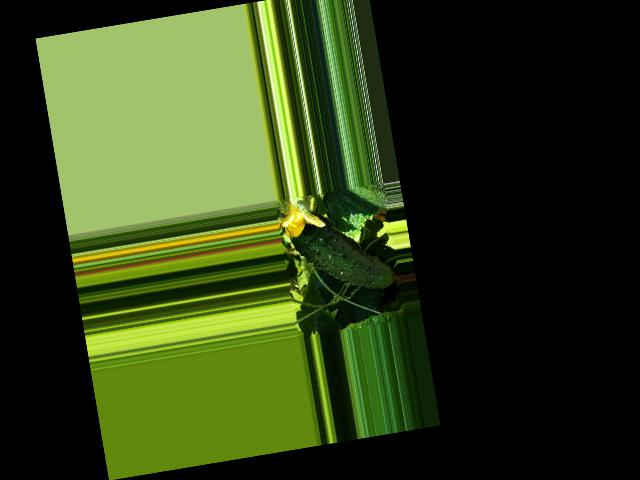cucumber: (286, 200, 401, 303)
